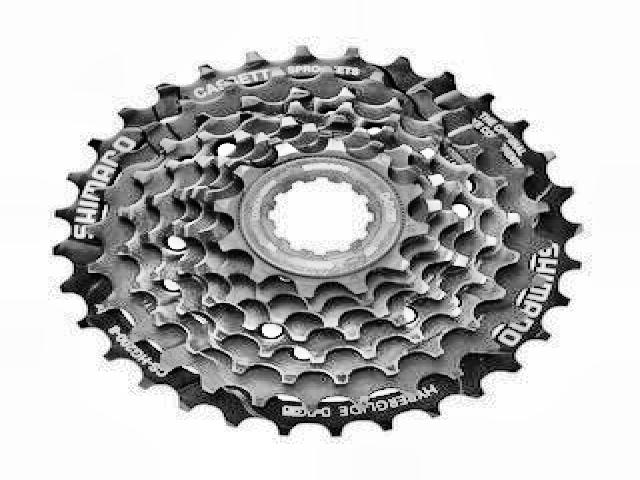cassette: (50, 42, 586, 441)
